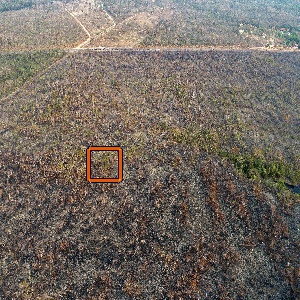square: (85, 144, 123, 183)
